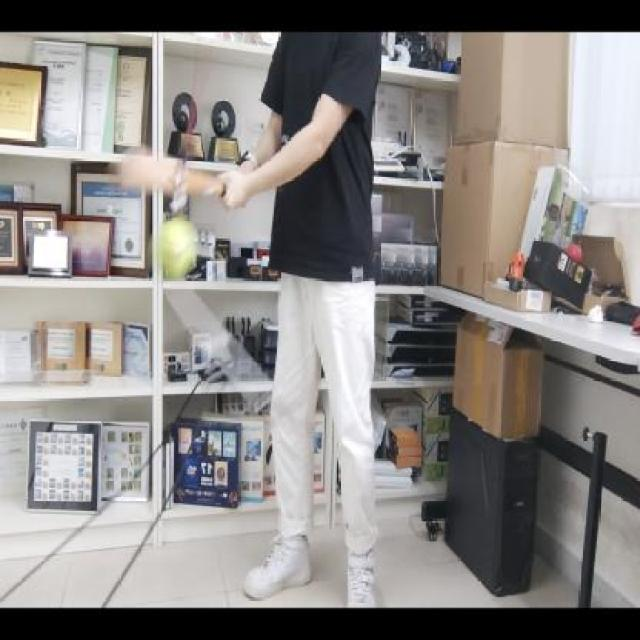baseball: (145, 217, 204, 286)
